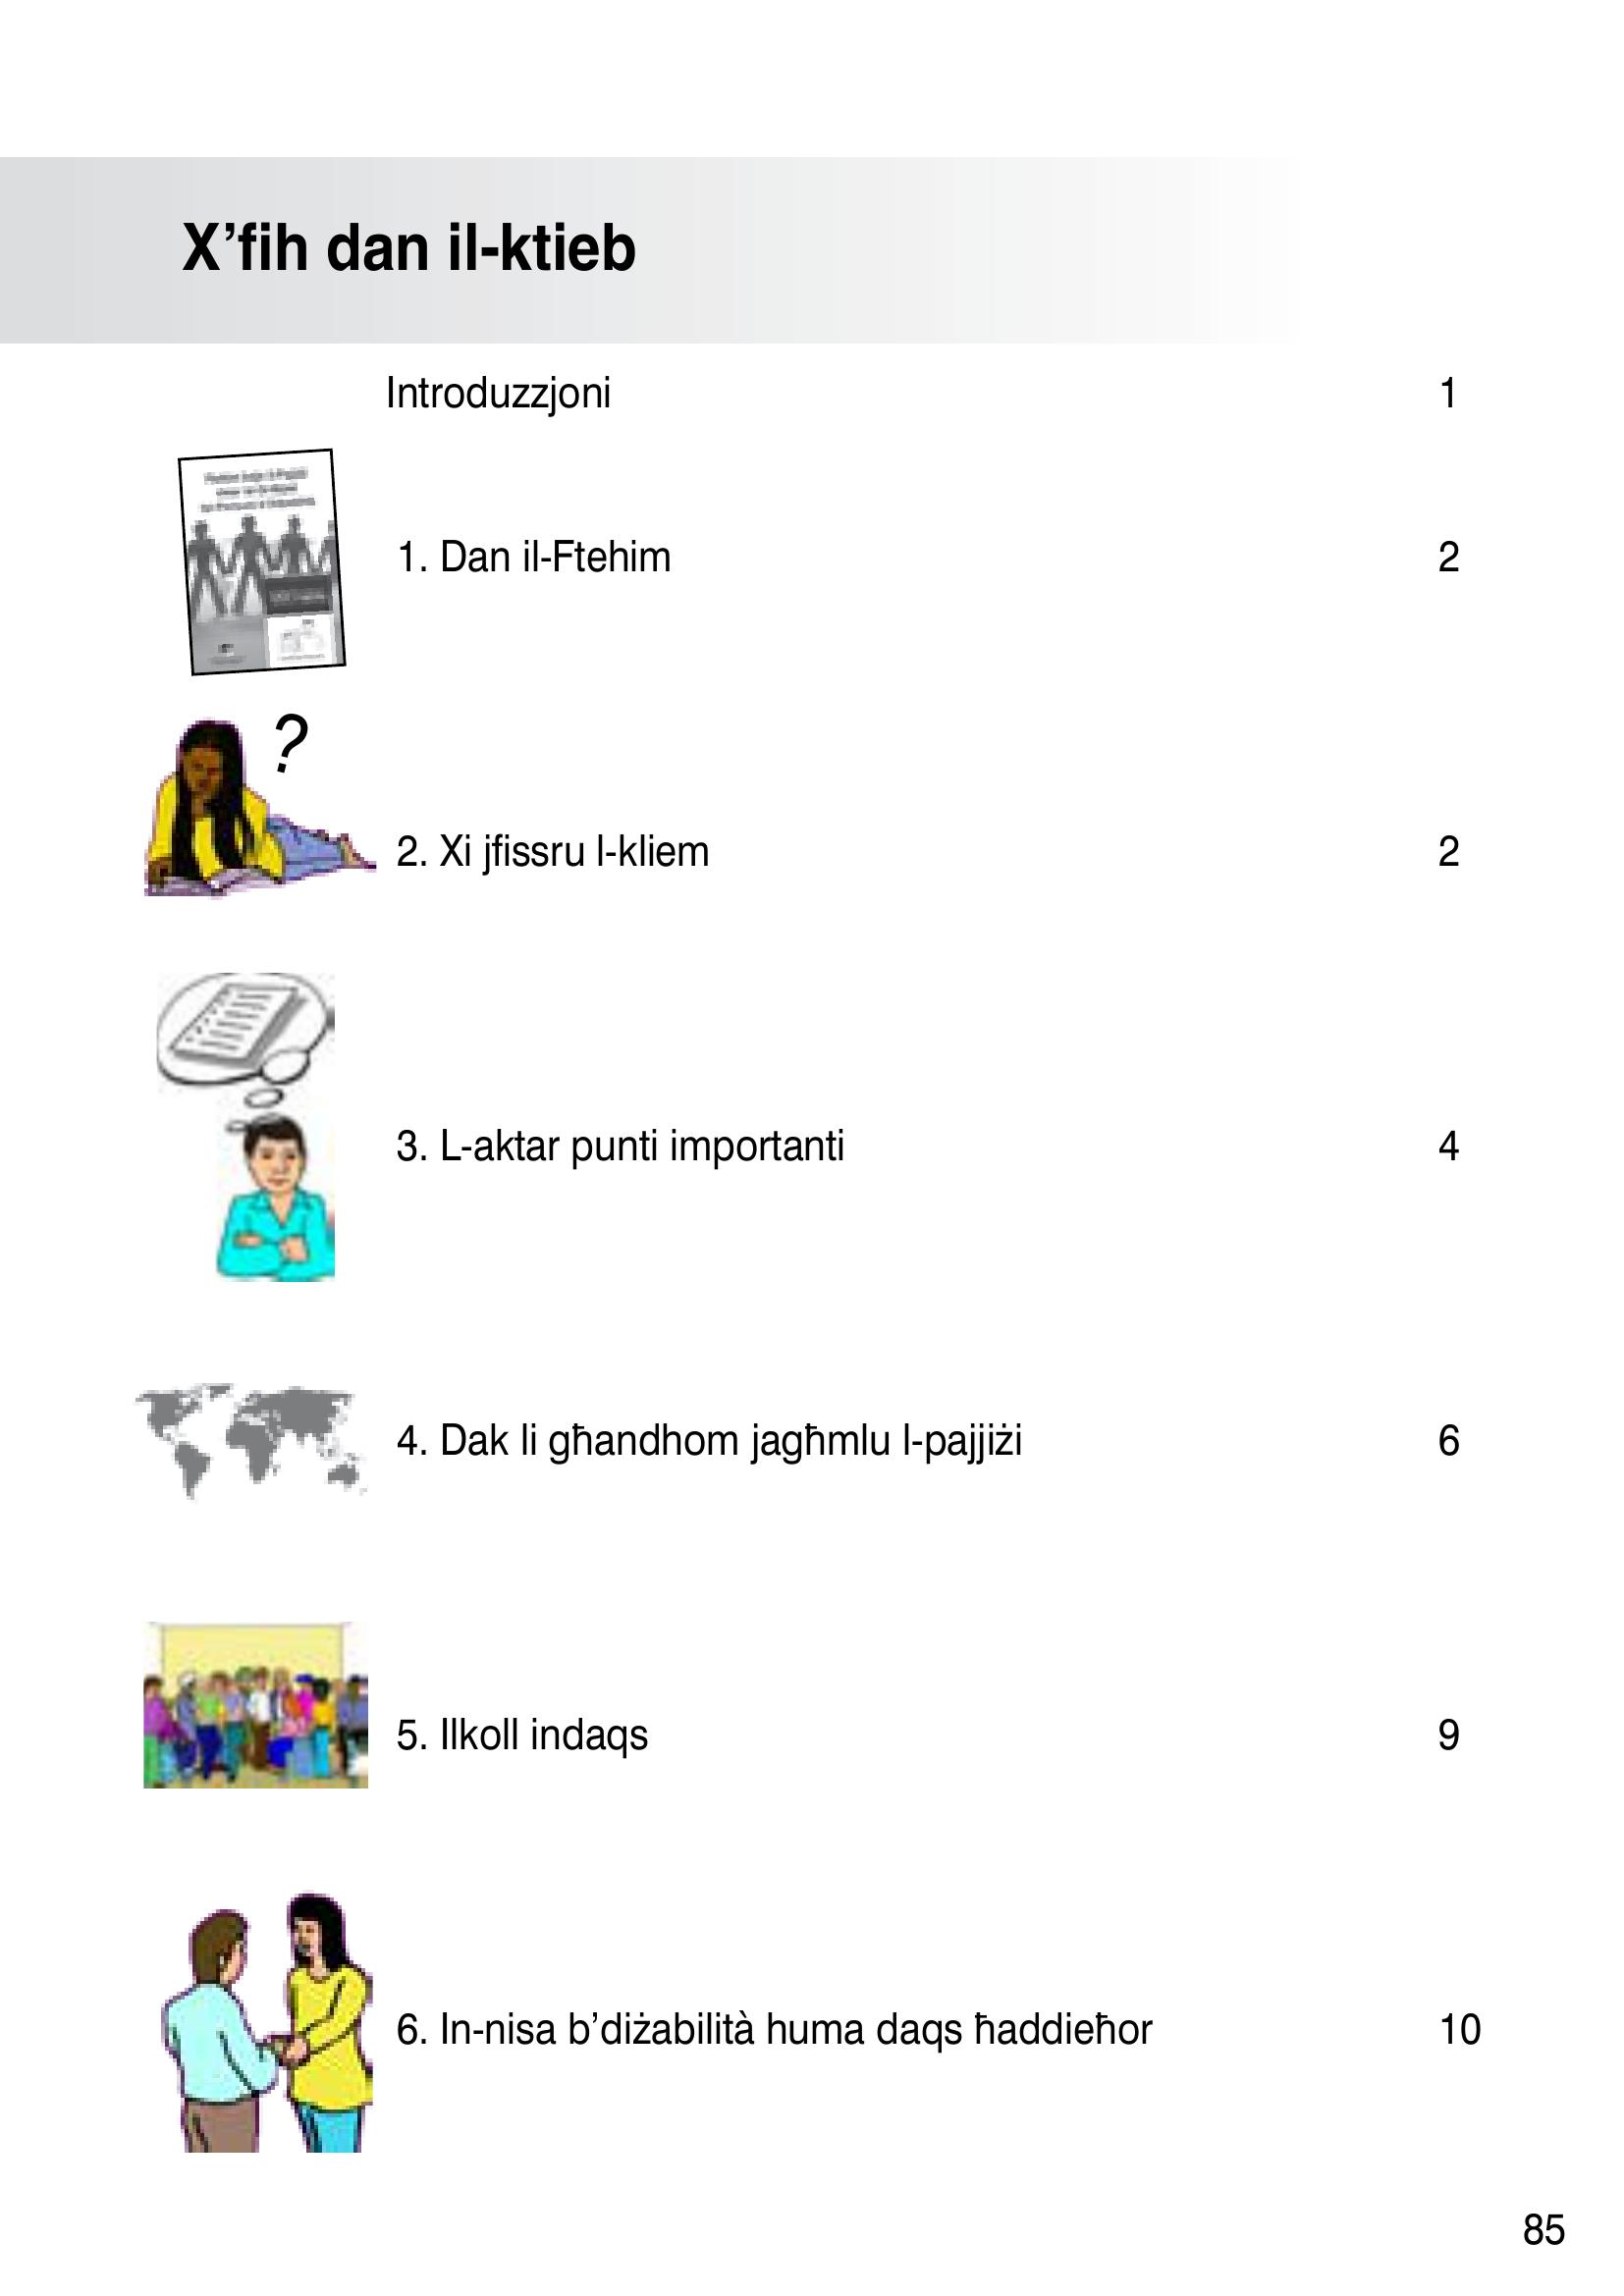text: (158, 186, 661, 316)
